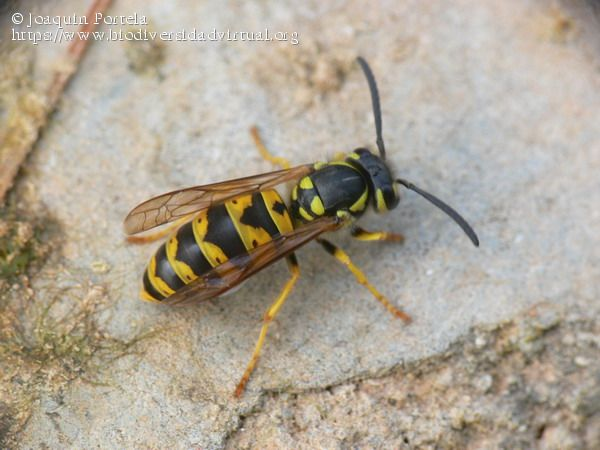chax: (92, 57, 483, 398)
